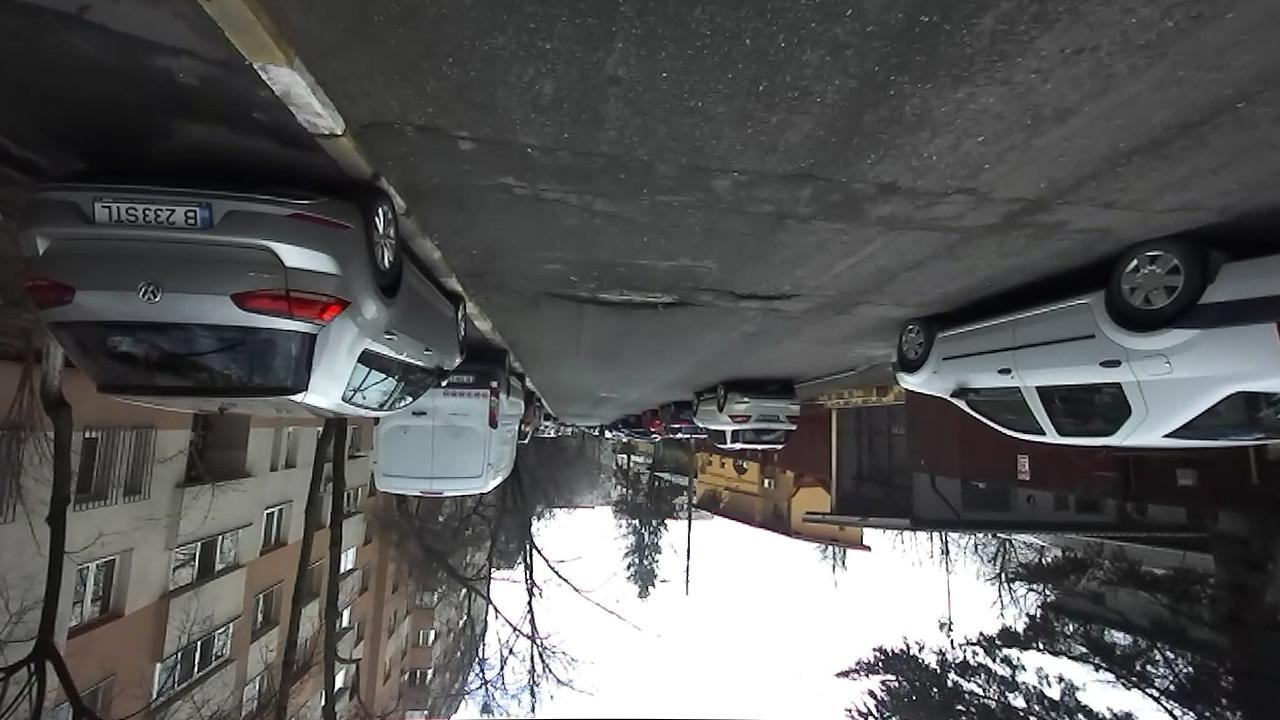pothole: (542, 281, 691, 313), (362, 116, 481, 147), (724, 287, 801, 307)
